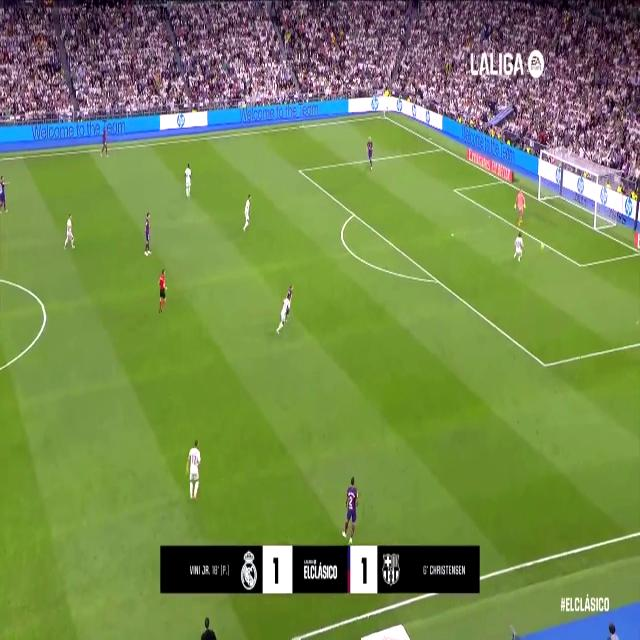bigarea_bottom_inner: (540, 352, 550, 377)
bigarea_top_inner: (296, 162, 304, 178)
bigarea_top_outter: (438, 141, 446, 153)
bottom_arc_area_intersection: (432, 271, 442, 289)
corner: (380, 111, 387, 120)
smallarea_bottom_inner: (576, 256, 584, 274)
smallarea_top_inner: (452, 183, 458, 195)
top_arc_area_intersection: (350, 206, 358, 220)
